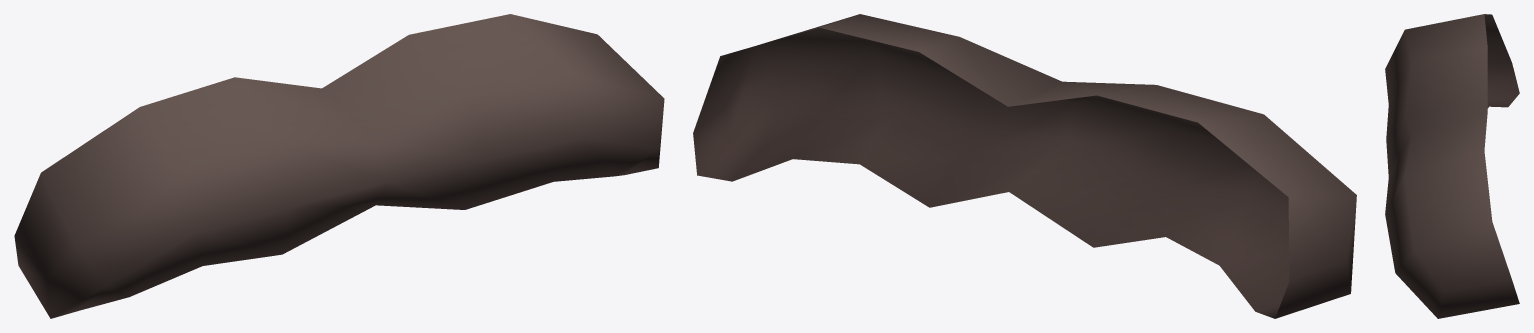
Rendered from Mustache_07.glb.
The picture shows the model from 3 angles, left to right: view 1: azimuth 30°, elevation 25°; view 2: azimuth 150°, elevation 25°; view 3: azimuth 270°, elevation 25°; orthographic projection. The views are drawn at different scales.
Visible parts, largest first — view 1: Mustache_07; view 2: Mustache_07; view 3: Mustache_07.
Boxes of the visible parts, <box> form: Mustache_07: <box>14,14,664,318</box>; Mustache_07: <box>693,14,1356,318</box>; Mustache_07: <box>1385,14,1519,318</box>.
Bounding box in the file's own units: 0.138 × 0.0359 × 0.0345.
Materials: 1 (1 with a texture image).
